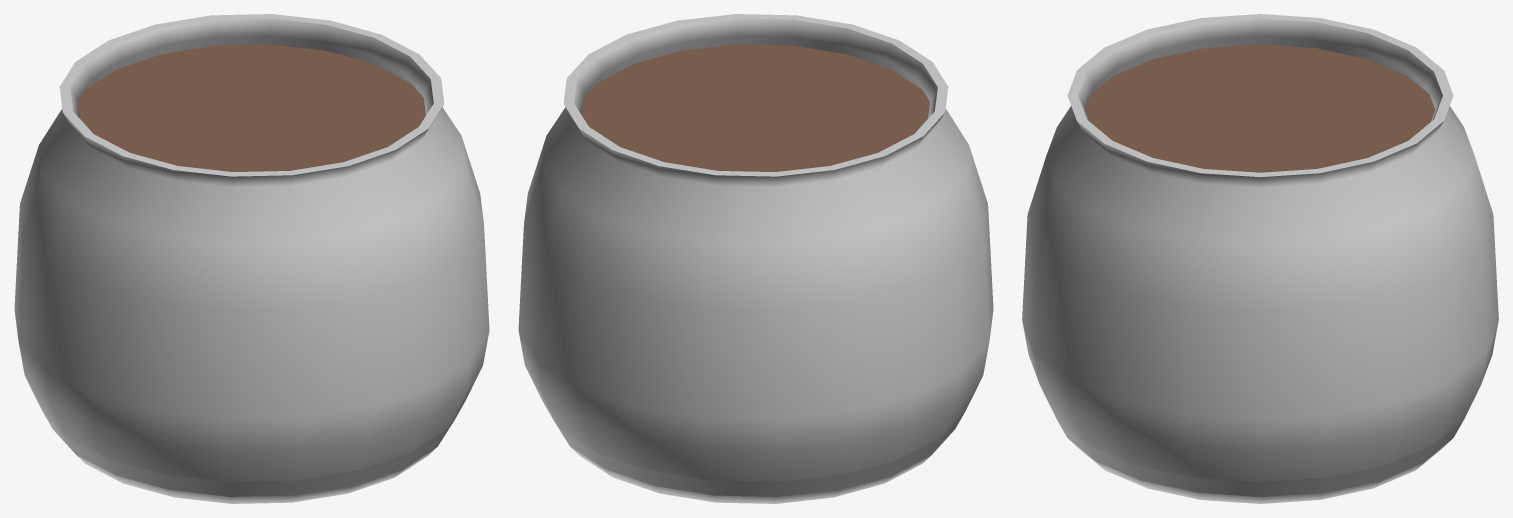
The model's file is RoundPlantPot.fbx.
3 views of the same model, side by side, from view 1: azimuth 30°, elevation 25°; view 2: azimuth 150°, elevation 25°; view 3: azimuth 270°, elevation 25° (orthographic).
Parts seen in each view (by area): view 1: pCylinder31; view 2: pCylinder31; view 3: pCylinder31.
Boxes of the visible parts, x1,y1,x2,y2 form: pCylinder31: (14,14,489,503); pCylinder31: (518,14,993,503); pCylinder31: (1022,14,1498,503).
Bounding box in the file's own units: 0.8859 × 0.6708 × 0.8859.
